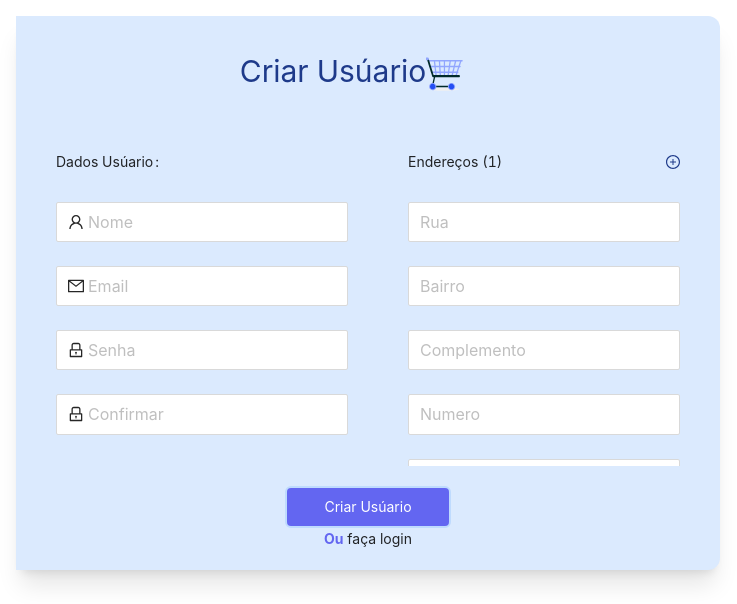
Register Component › Forms validation › Email › should show error when email is empty if submit button
The image size is (737, 604).
Click the button with test id "submit-component" at (368, 507), box [285,486,451,528]
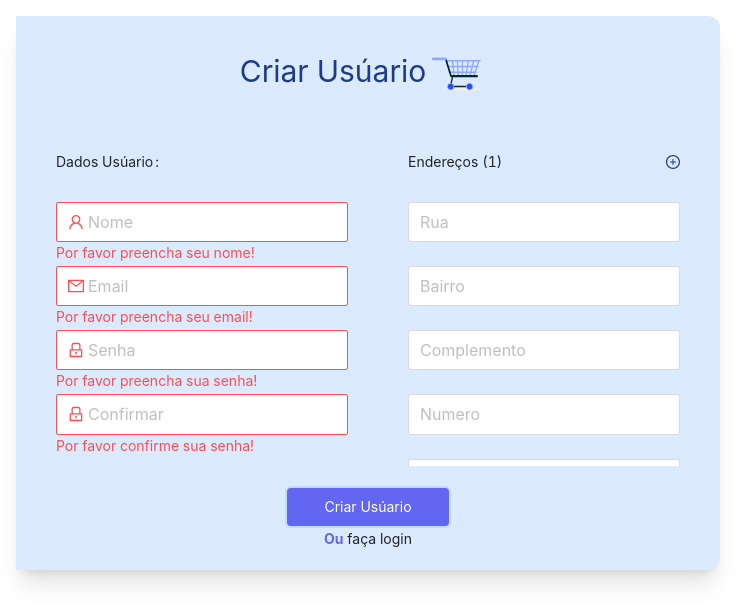
Check: the text "Por favor preencha seu email!" is shown, box [56,308,253,325]
